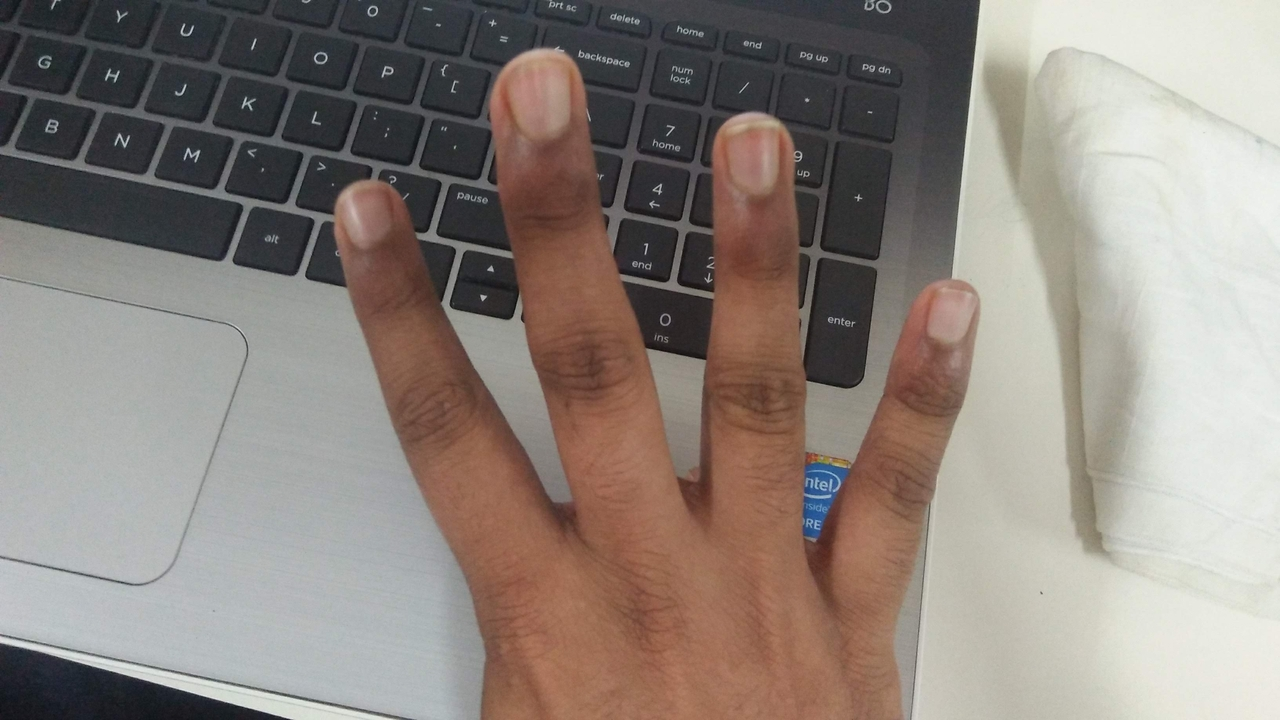fingertip: (471, 42, 604, 143), (697, 104, 795, 199), (322, 180, 406, 252), (904, 278, 992, 346)
